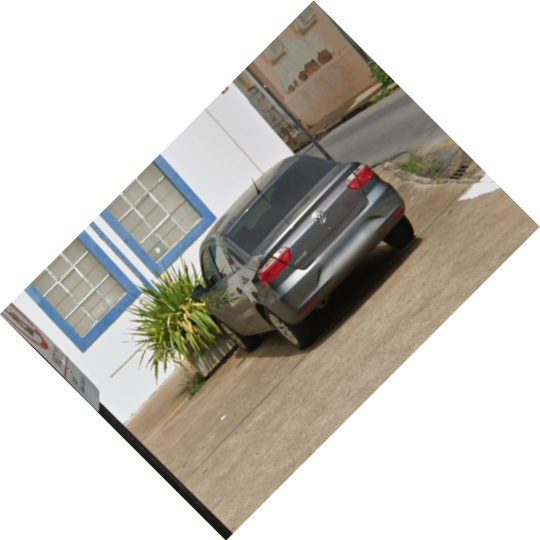car: (188, 150, 420, 352)
